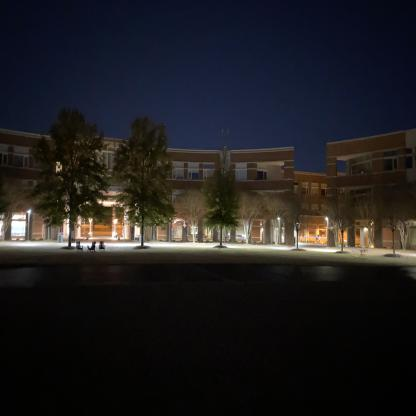eb2: (3, 127, 310, 253)
